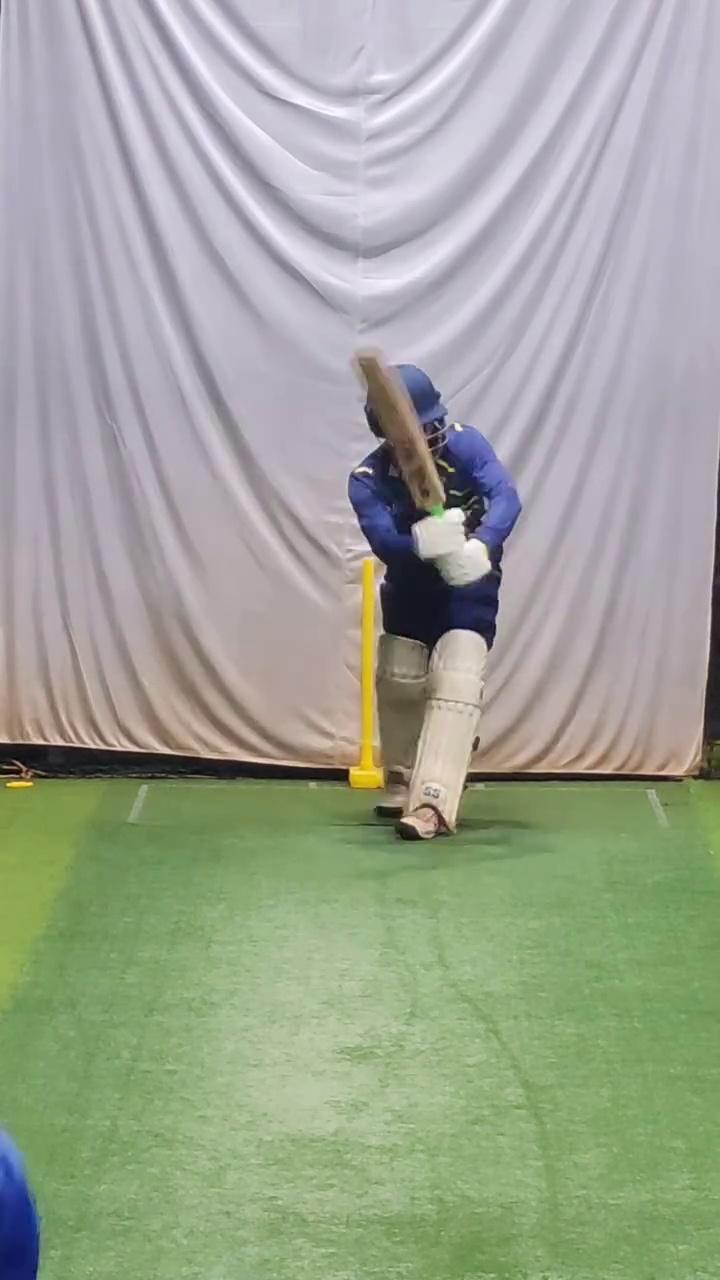bat: (348, 341, 449, 512)
